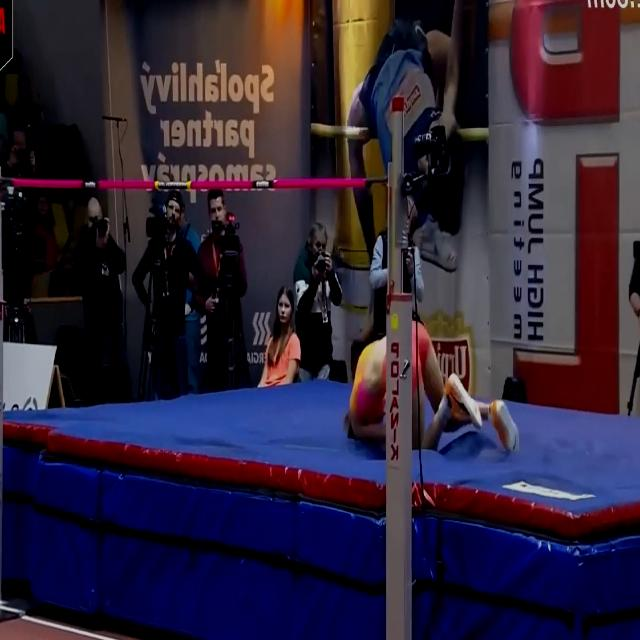land: (344, 323, 520, 452)
